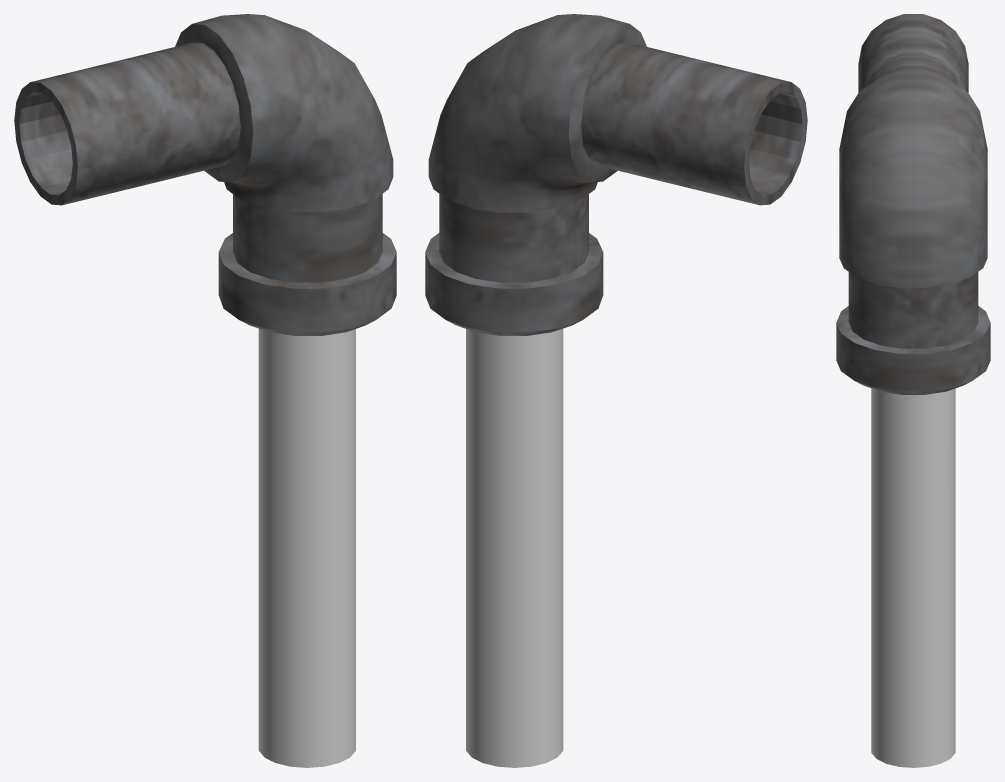
File: pipeWithFill.fbx
3 views of the same model, side by side, from view 1: azimuth 30°, elevation 25°; view 2: azimuth 150°, elevation 25°; view 3: azimuth 270°, elevation 25° (orthographic). The views are drawn at different scales.
Visible parts, largest first — view 1: Cylinder002, Cylinder003; view 2: Cylinder002, Cylinder003; view 3: Cylinder002, Cylinder003.
Boxes of the visible parts, x1,y1,x2,y2 form: Cylinder002: (14, 14, 396, 335); Cylinder003: (258, 328, 355, 767); Cylinder002: (425, 14, 807, 335); Cylinder003: (466, 328, 563, 767); Cylinder002: (836, 14, 990, 394); Cylinder003: (871, 388, 955, 767).
Bounding box in the file's own units: 174 × 365 × 79.64.
1 material, 1 textured.
